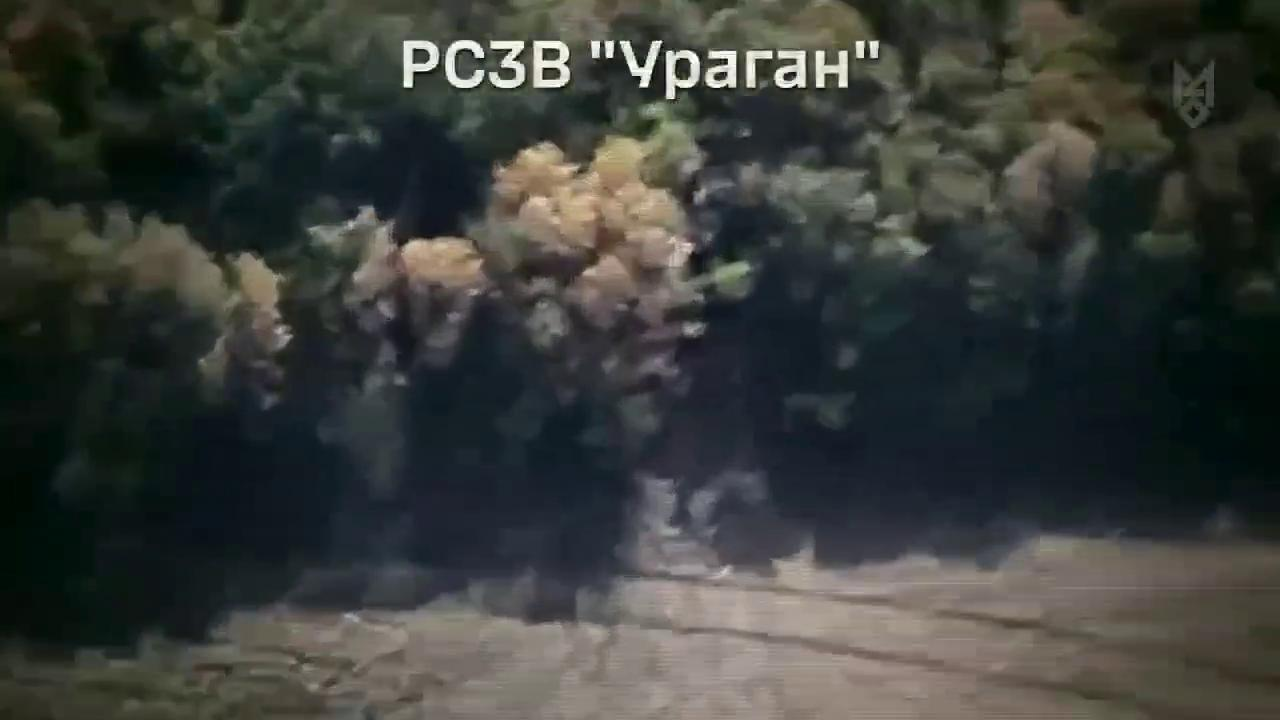tank: (668, 157, 754, 310)
